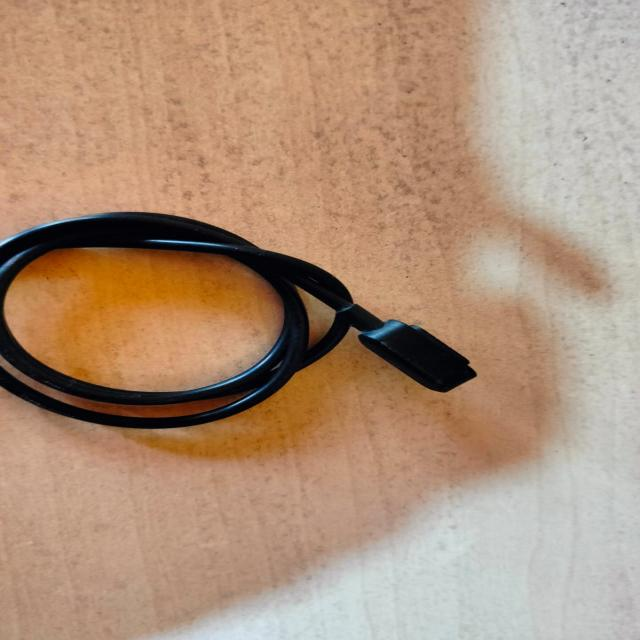cable: (0, 187, 477, 465)
